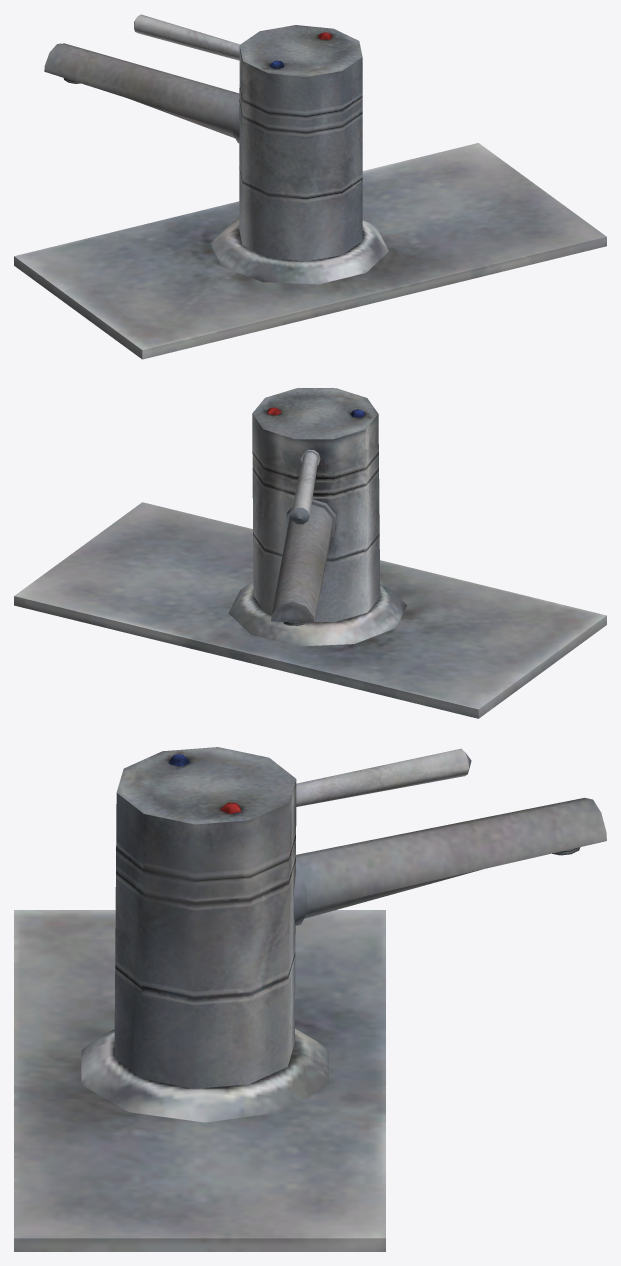
The model's file is sink_kitchen_tap.dae.
3 renders of one model, top to bottom at view 1: azimuth 30°, elevation 25°; view 2: azimuth 150°, elevation 25°; view 3: azimuth 270°, elevation 25°, orthographic. The views are drawn at different scales.
Visible parts, largest first — view 1: sink_kitchen_tap, lever; view 2: sink_kitchen_tap, lever; view 3: sink_kitchen_tap, lever.
Boxes of the visible parts, x1,y1,x2,y2 form: sink_kitchen_tap: (14, 43, 606, 359); lever: (134, 14, 362, 133); sink_kitchen_tap: (14, 470, 606, 718); lever: (252, 388, 378, 524); sink_kitchen_tap: (14, 797, 606, 1251); lever: (116, 747, 471, 905).
Bounding box in the file's own units: 0.4529 × 0.1951 × 0.3455.
